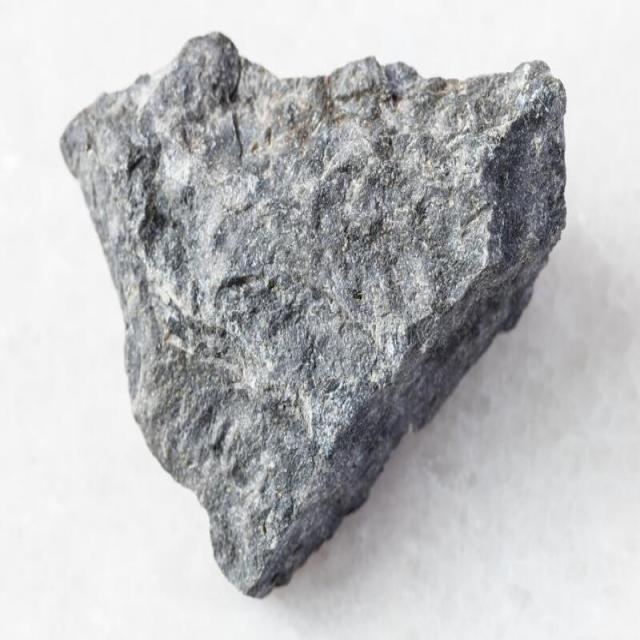Igneous: (45, 23, 572, 622)
